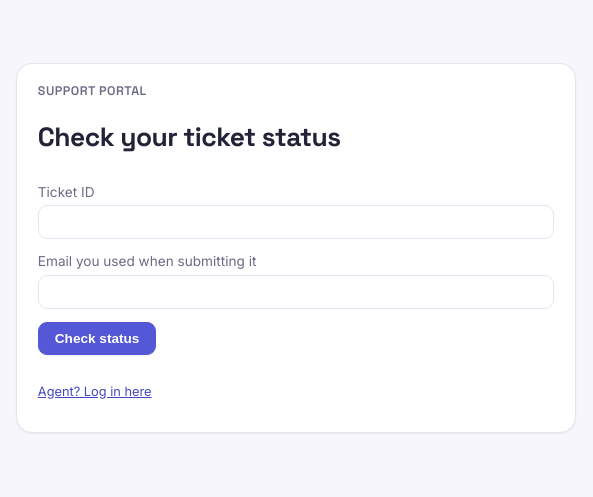
Test case: PortalPage › shows an error when no ticket matches
Type "99" into the field labelled "Ticket ID" at (296, 222), box [38,206,554,240]
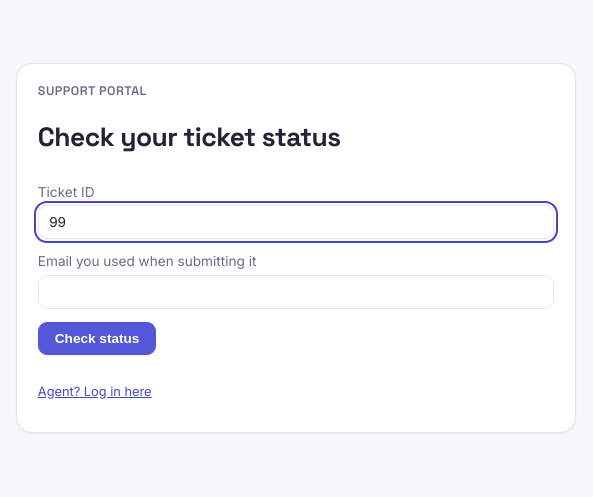
Type "nobody@example.com" into the field labelled "Email you used when submitting it" at (296, 292), box [38,275,554,309]
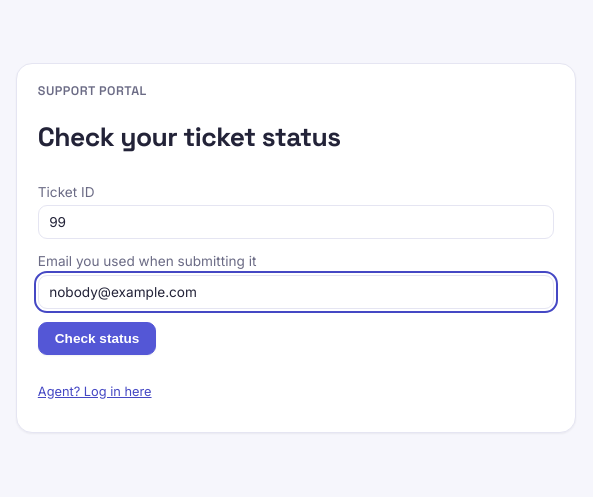
Click the button "Check status" at (97, 339), box [38,322,156,355]
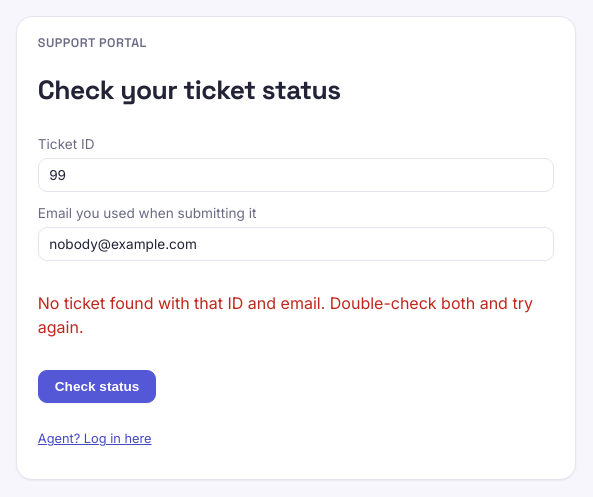
Check: the text "No ticket found" is shown, box [38,293,533,337]
